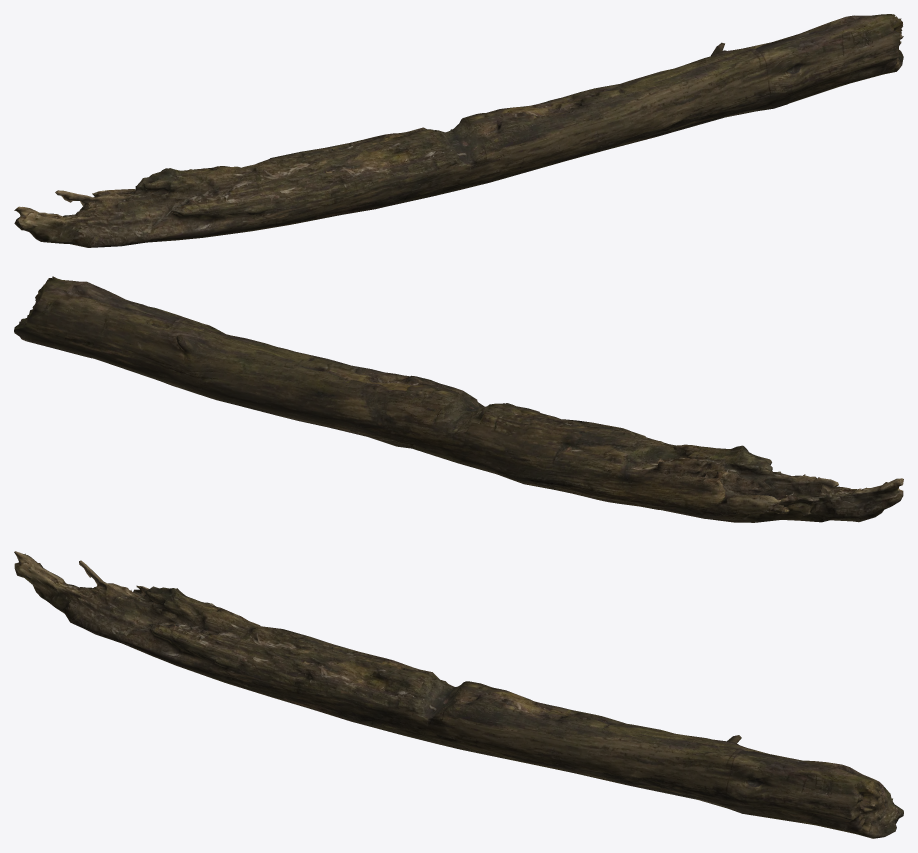
Rendered from dead_tree_trunk.glb.
3 views of the same model, one above another, from view 1: azimuth 30°, elevation 25°; view 2: azimuth 150°, elevation 25°; view 3: azimuth 330°, elevation 25° (orthographic).
Visible parts, largest first — view 1: dead_tree_trunk; view 2: dead_tree_trunk; view 3: dead_tree_trunk.
Boxes of the visible parts, x1=… form: dead_tree_trunk: x1=14, y1=14, x2=903, y2=247; dead_tree_trunk: x1=14, y1=276, x2=903, y2=522; dead_tree_trunk: x1=14, y1=551, x2=903, y2=838.
Bounding box in the file's own units: 3.05 × 0.2898 × 0.2775.
1 material, 1 textured.
